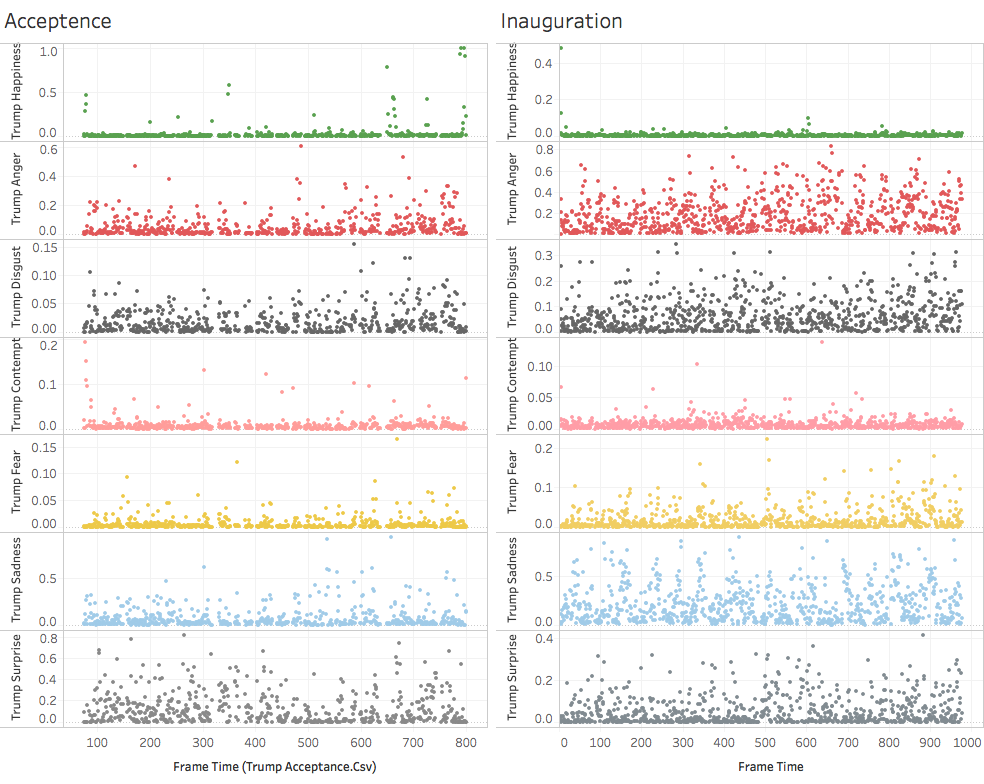

What the dashboard file says about the page in this screenshot:
{"tool":"tableau","page":{"name":"Dashboard 2","canvas":[1000,800],"ordinal":0},"visuals":[{"type":"worksheet","title":"trump","mark":"Automatic","rows":["trump_happiness","trump_anger","trump_disgust","trump_contempt","trump_fear","trump_sadness","trump_surprise"],"cols":["frame_time (trump_acceptance.csv)"],"box":[0,0,500,800]},{"type":"worksheet","title":"inauguration","mark":"Automatic","rows":["trump_happiness","trump_anger","trump_disgust","trump_contempt","trump_fear","trump_sadness","trump_surprise"],"cols":["frame_time"],"box":[500,0,500,800]}]}

Visuals, with their boxes in screenshot pixels (x1, y1, x2, y2), scaled from the page's 1000x800 canvas onto the 984x784 screenshot:
"trump" worksheet: (left=0, top=0, right=492, bottom=783)
"inauguration" worksheet: (left=492, top=0, right=983, bottom=783)
